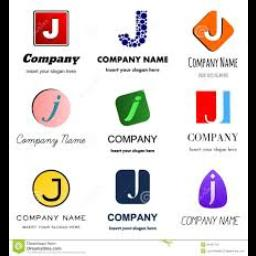j: (113, 6, 155, 52), (34, 10, 72, 46), (38, 176, 68, 206), (202, 14, 228, 44)
